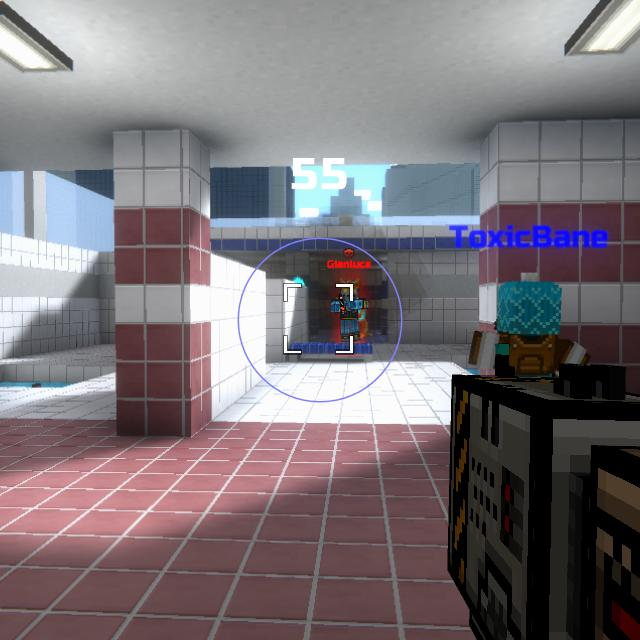Enemy: (331, 283, 367, 346)
